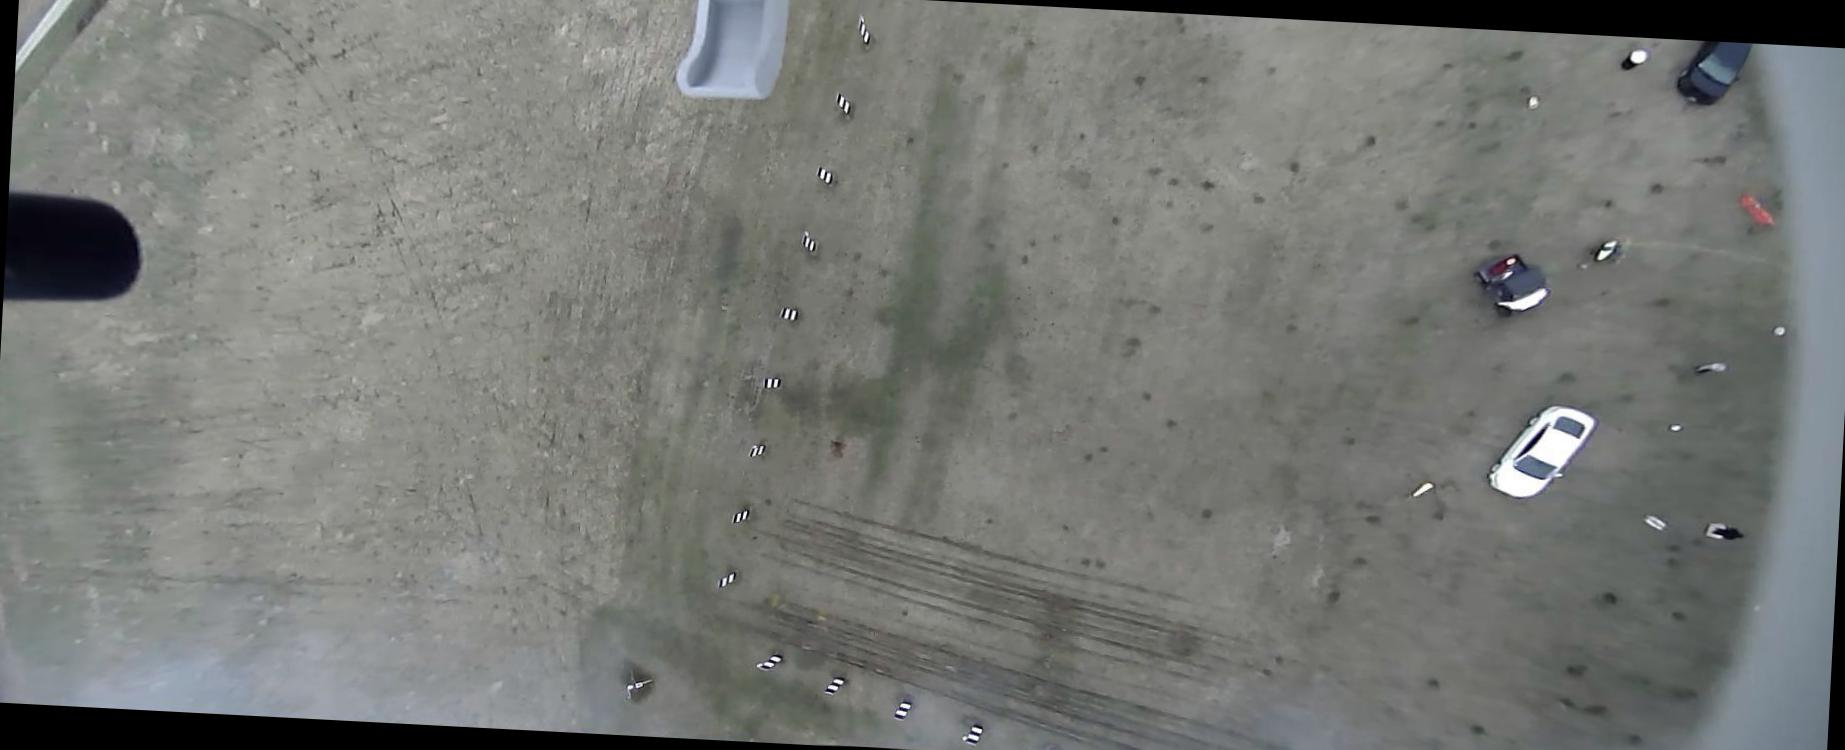vehicle: (1484, 400, 1598, 502), (1469, 250, 1553, 320), (1674, 39, 1754, 108)
